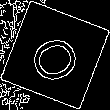O_NE: (23, 25, 87, 85)
